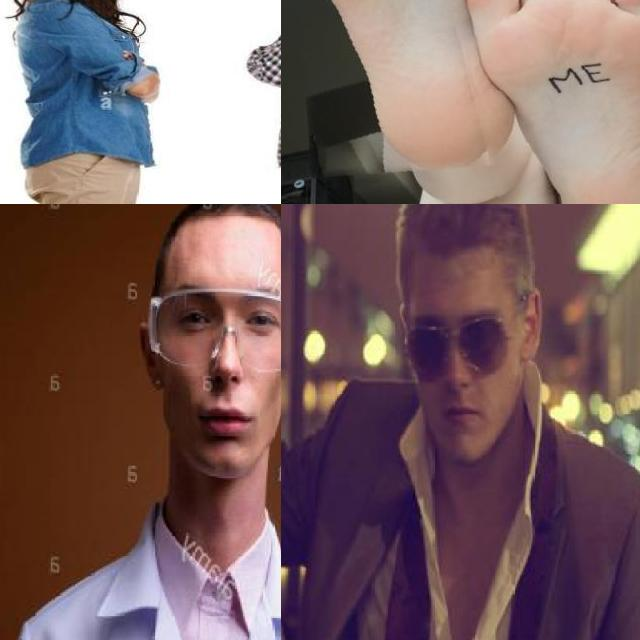Barefoots: (461, 0, 640, 204), (320, 0, 507, 179)
No_Ear-Protection: (516, 284, 547, 364)
face_nomask: (155, 283, 281, 455), (413, 305, 512, 432)
glasses: (145, 285, 281, 371), (405, 286, 534, 372)
head_nohelmet: (395, 204, 538, 283), (158, 204, 281, 249)
person: (289, 204, 640, 640), (0, 204, 281, 640), (6, 0, 166, 204)
